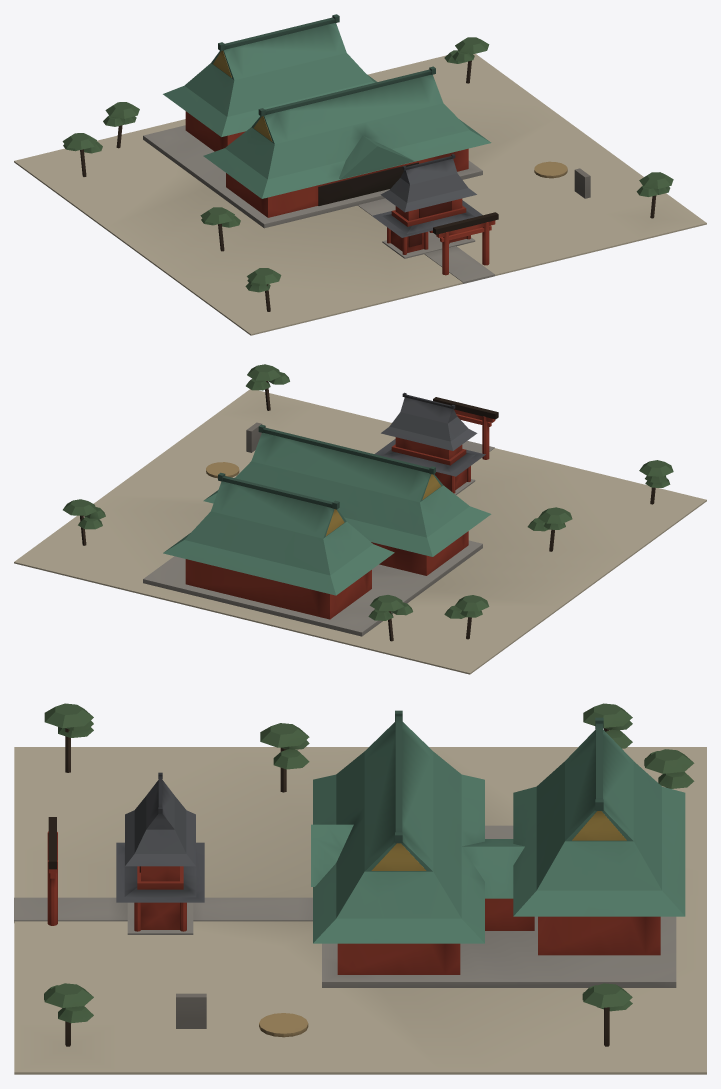
The model's file is tomioka-hachiman.glb.
3 views of the same model, one above another, from view 1: azimuth 30°, elevation 25°; view 2: azimuth 150°, elevation 25°; view 3: azimuth 270°, elevation 25° (orthographic). The views are drawn at different scales.
Parts seen in each view (by area): view 1: p0_precinct, p2_shrine, p1_torii; view 2: p0_precinct, p2_shrine, p1_torii; view 3: p0_precinct, p2_shrine, p1_torii.
Boxes of the visible parts, x1=… form: p0_precinct: x1=14, y1=53, x2=706, y2=335; p2_shrine: x1=62, y1=14, x2=673, y2=311; p1_torii: x1=372, y1=154, x2=498, y2=275; p0_precinct: x1=14, y1=389, x2=706, y2=674; p2_shrine: x1=63, y1=364, x2=673, y2=641; p1_torii: x1=374, y1=392, x2=498, y2=494; p0_precinct: x1=14, y1=747, x2=706, y2=1074; p2_shrine: x1=44, y1=703, x2=694, y2=1046; p1_torii: x1=47, y1=772, x2=204, y2=934.
Bounding box in the file's own units: 100 × 21.81 × 90.04.
